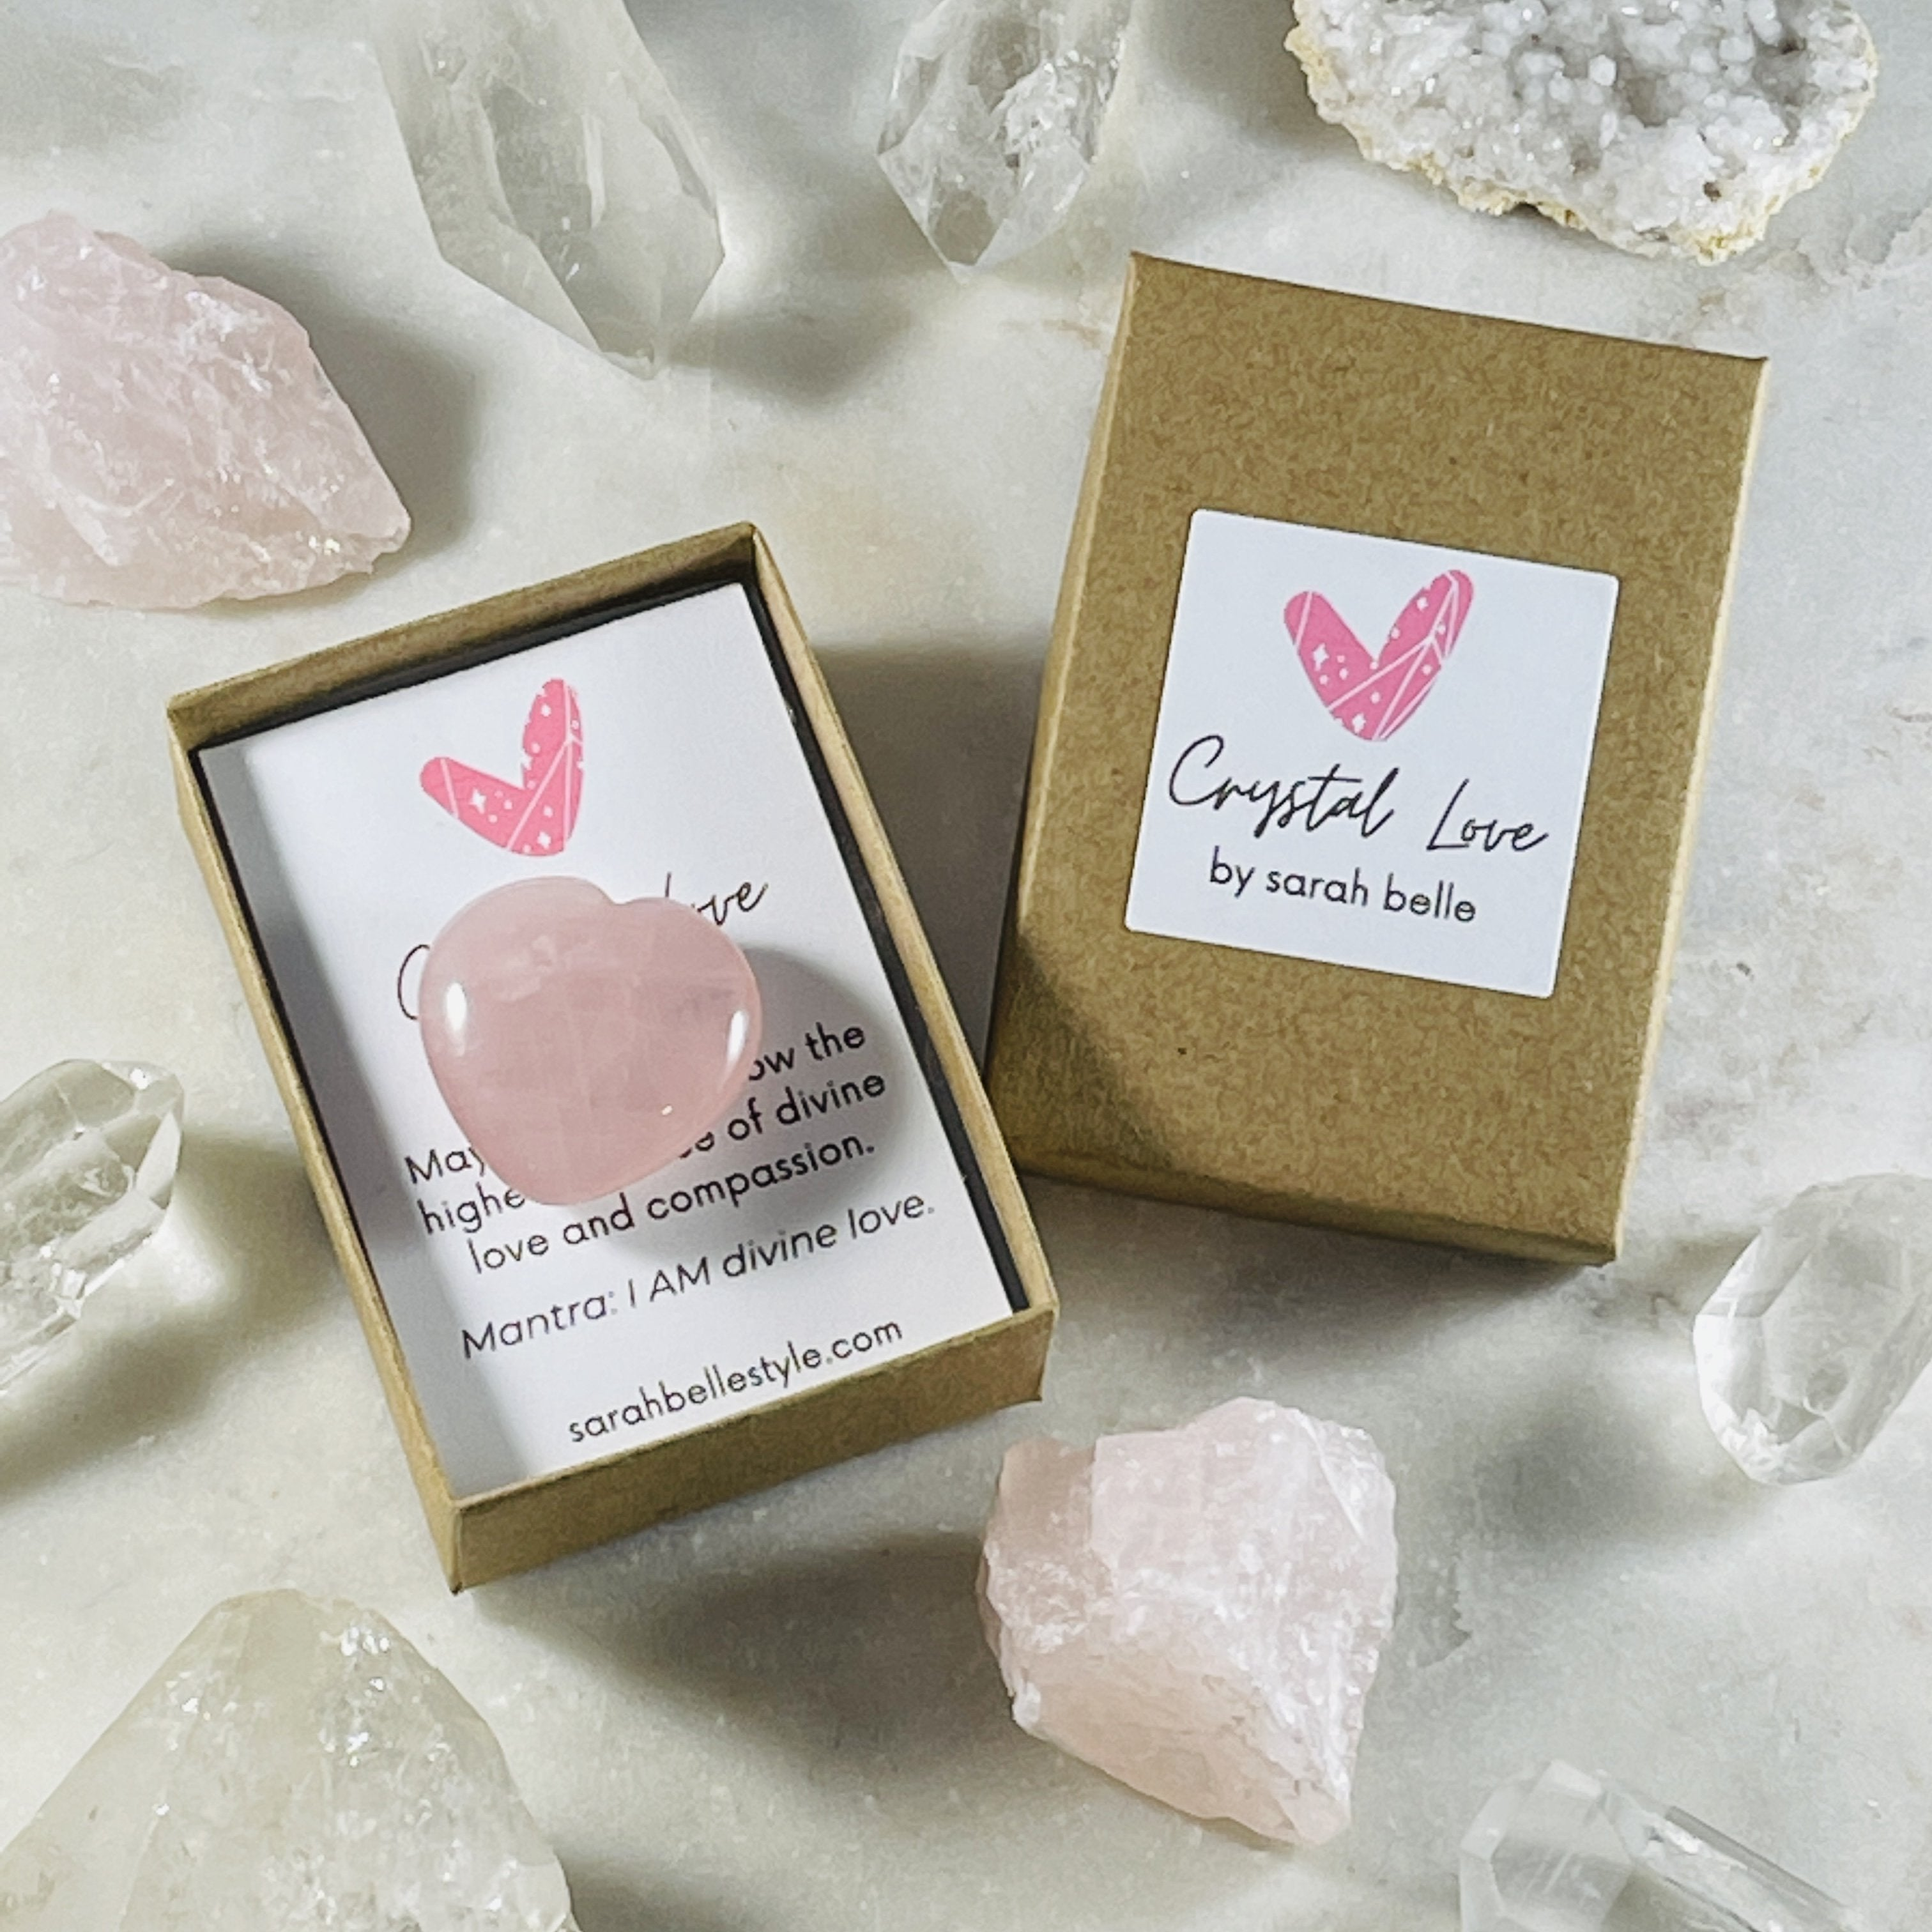Rose_Quartz: (425, 874, 766, 1196)
